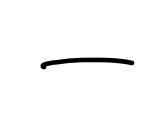minus: (40, 57, 134, 67)
